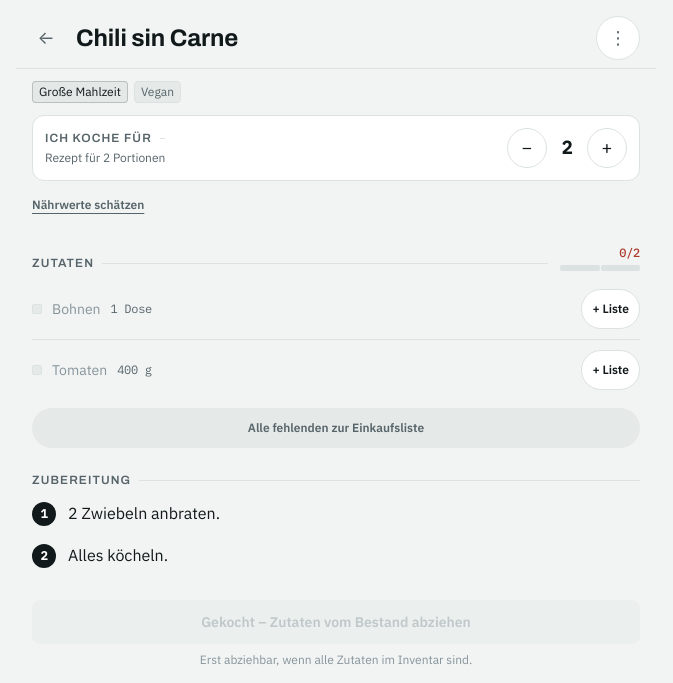
Test: RecipeDetail › ingredient availability › offers to add a missing ingredient to the list
Click the button "+ Liste" in the row of "Bohnen".
click(611, 309)  # box [581, 289, 640, 329]
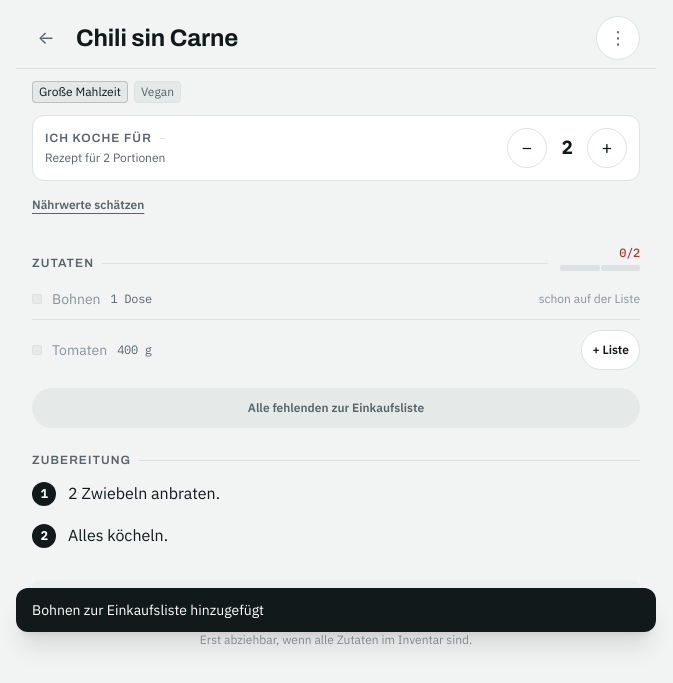
Check: the text "Bohnen" is shown, box [52, 289, 100, 309]
Check: the message reads "Bohnen zur Einkaufsliste hinzugefügt", box [32, 601, 264, 619]
